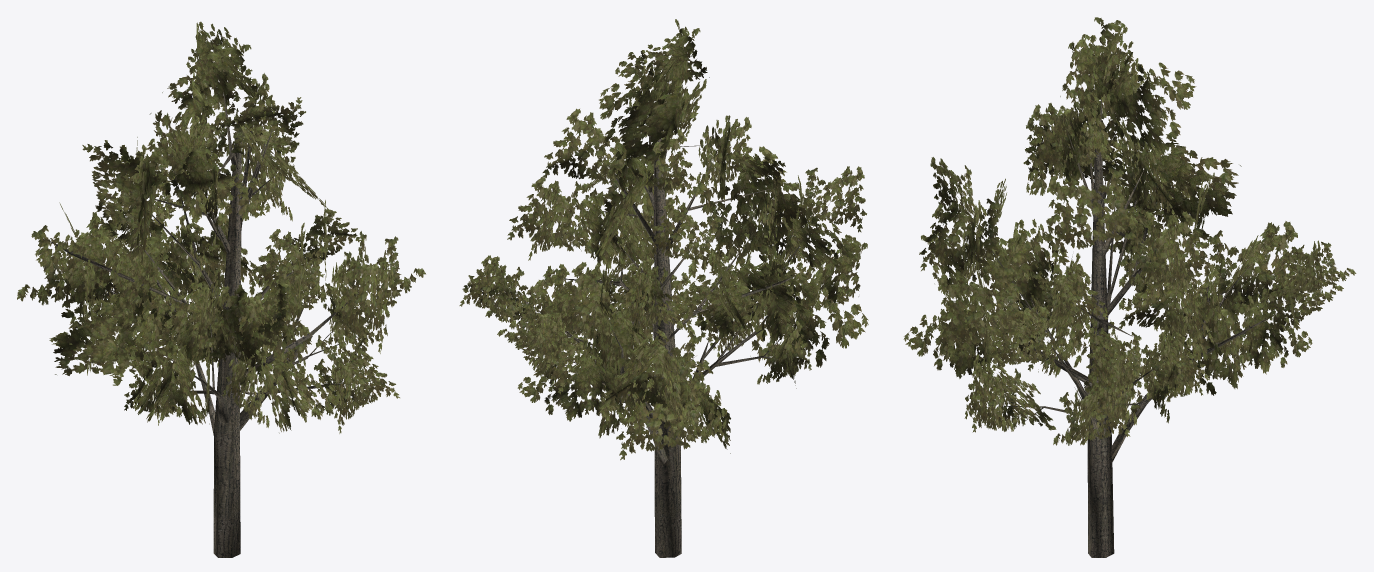
Rendered from Vegetation_Tree02a.glb.
3 renders of one model, left to right at view 1: azimuth 30°, elevation 25°; view 2: azimuth 150°, elevation 25°; view 3: azimuth 270°, elevation 25°, orthographic.
Visible parts, largest first — view 1: zw_tree02a_0; view 2: zw_tree02a_0; view 3: zw_tree02a_0.
Part boxes in pixels (x1=…): zw_tree02a_0: x1=17, y1=21, x2=425, y2=557; zw_tree02a_0: x1=459, y1=19, x2=868, y2=557; zw_tree02a_0: x1=903, y1=17, x2=1356, y2=557.
Bounding box in the file's own units: 9.67 × 14.1 × 11.15.
2 materials, 2 textured.
